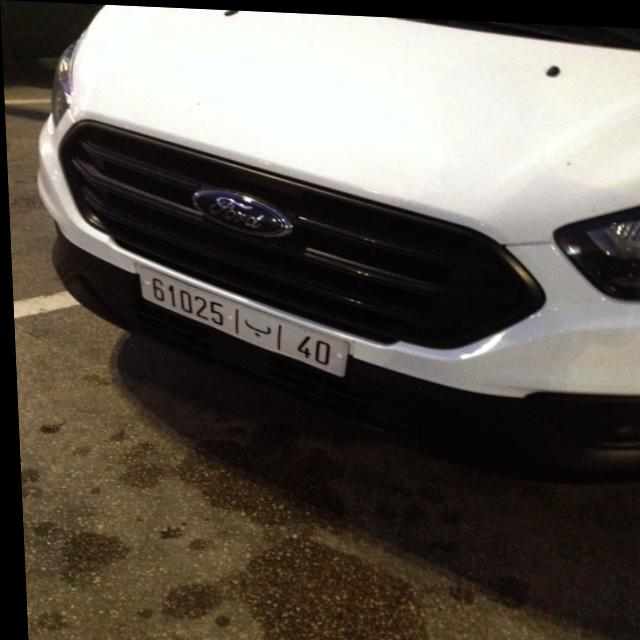License-Plate: (136, 265, 347, 373)
